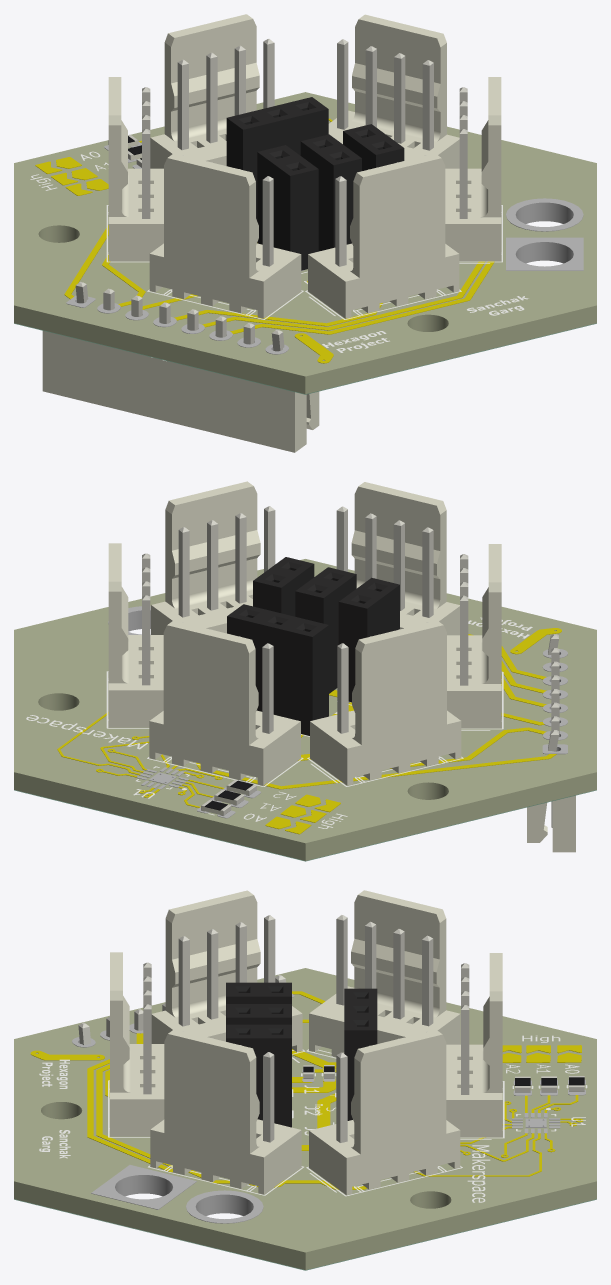
Rendered from CentralNode.glb.
The picture shows the model from 3 angles, top to bottom: view 1: azimuth 30°, elevation 25°; view 2: azimuth 150°, elevation 25°; view 3: azimuth 270°, elevation 25°; orthographic projection.
Visible parts, largest first — view 1: =>[0:1:1:3] (×6), =>[0:1:1:21], =>[0:1:1:13], =>[0:1:1:7] (×3), =>[0:1:1:14], =>[0:1:1:15], =>[0:1:1:9], =>[0:1:1:17], =>[0:1:1:20]; view 2: =>[0:1:1:3] (×6), =>[0:1:1:21], =>[0:1:1:7] (×3), =>[0:1:1:9], =>[0:1:1:14], =>[0:1:1:13], =>[0:1:1:15], =>[0:1:1:17], =>[0:1:1:20]; view 3: =>[0:1:1:3] (×6), =>[0:1:1:21], =>[0:1:1:14], =>[0:1:1:7] (×3), =>[0:1:1:15], =>[0:1:1:17], =>[0:1:1:9], =>[0:1:1:20], =>[0:1:1:13].
Part boxes in pixels (x1,y1,x2,y2): =>[0:1:1:3] (×6): (108,14,501,318); =>[0:1:1:21]: (14,92,596,394); =>[0:1:1:13]: (42,282,319,452); =>[0:1:1:7] (×3): (257,124,404,270); =>[0:1:1:14]: (35,118,494,363); =>[0:1:1:15]: (66,141,583,354); =>[0:1:1:9]: (226,97,328,220); =>[0:1:1:17]: (30,148,528,352); =>[0:1:1:20]: (14,323,596,394); =>[0:1:1:3] (×6): (108,481,501,785); =>[0:1:1:21]: (14,559,596,860); =>[0:1:1:7] (×3): (253,557,399,702); =>[0:1:1:9]: (227,604,328,735); =>[0:1:1:14]: (57,628,561,834); =>[0:1:1:13]: (527,634,575,852); =>[0:1:1:15]: (108,606,567,818); =>[0:1:1:17]: (26,617,532,828); =>[0:1:1:20]: (14,790,596,861); =>[0:1:1:3] (×6): (110,890,502,1195); =>[0:1:1:21]: (14,968,596,1269); =>[0:1:1:14]: (30,991,582,1189); =>[0:1:1:7] (×3): (226,982,291,1127); =>[0:1:1:15]: (72,993,585,1223); =>[0:1:1:17]: (39,1035,587,1202); =>[0:1:1:9]: (344,988,377,1120); =>[0:1:1:20]: (14,1199,596,1270); =>[0:1:1:13]: (78,975,286,1045).
Bounding box in the file's own units: 0.052 × 0.0194 × 0.045.
